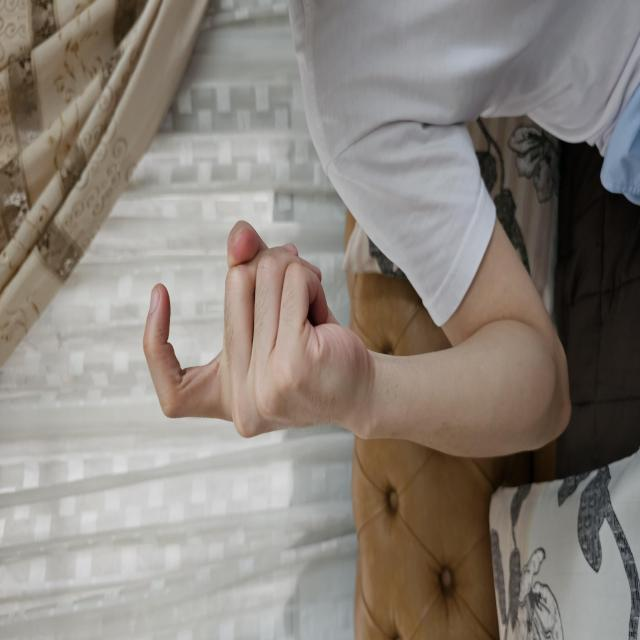X: (197, 141, 425, 379)
